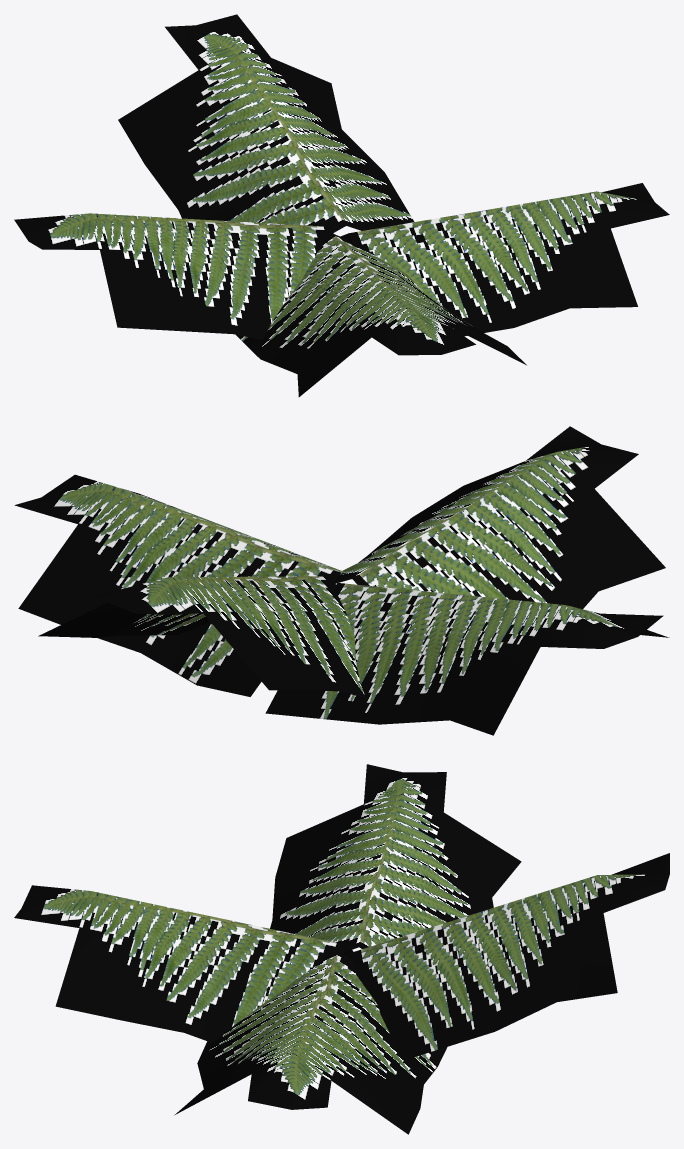
File: longplant.FBX
3 renders of one model, top to bottom at view 1: azimuth 30°, elevation 25°; view 2: azimuth 150°, elevation 25°; view 3: azimuth 270°, elevation 25°, orthographic. The views are drawn at different scales.
Parts seen in each view (by area): view 1: longplant001, longplant002, longplant, longplant003; view 2: longplant003, longplant, longplant002, longplant001; view 3: longplant001, longplant, longplant003, longplant002.
Part boxes in pixels (x1=…): longplant001: x1=118, y1=14, x2=414, y2=232; longplant002: x1=340, y1=183, x2=669, y2=336; longplant: x1=14, y1=213, x2=333, y2=339; longplant003: x1=235, y1=233, x2=526, y2=396; longplant003: x1=334, y1=426, x2=665, y2=609; longplant: x1=265, y1=583, x2=669, y2=735; longplant002: x1=14, y1=474, x2=349, y2=696; longplant001: x1=38, y1=576, x2=365, y2=697; longplant001: x1=352, y1=853, x2=669, y2=1059; longplant: x1=270, y1=764, x2=521, y2=952; longplant003: x1=14, y1=885, x2=353, y2=1042; longplant002: x1=174, y1=951, x2=447, y2=1134.
Bounding box in the file's own units: 919 × 900 × 255.
